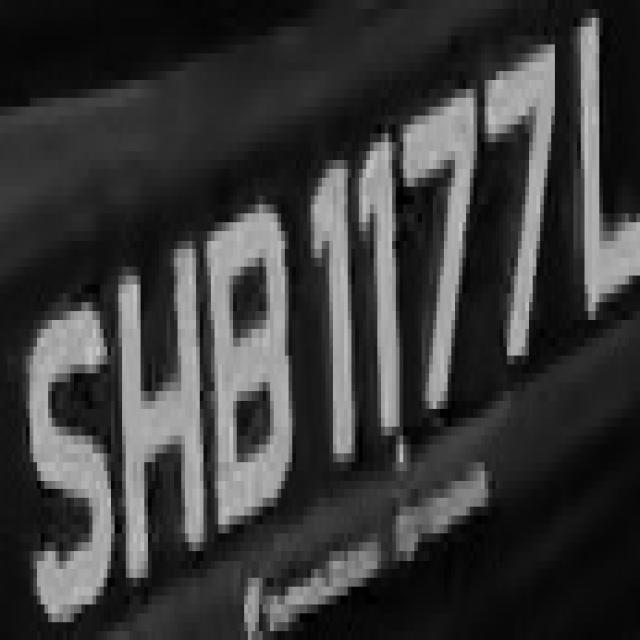1: (352, 107, 411, 480), (303, 133, 359, 498)
7: (466, 53, 570, 418), (385, 80, 488, 444)
B: (196, 178, 300, 542)
H: (104, 249, 207, 587)
L: (562, 0, 640, 320)
S: (22, 294, 115, 622)
